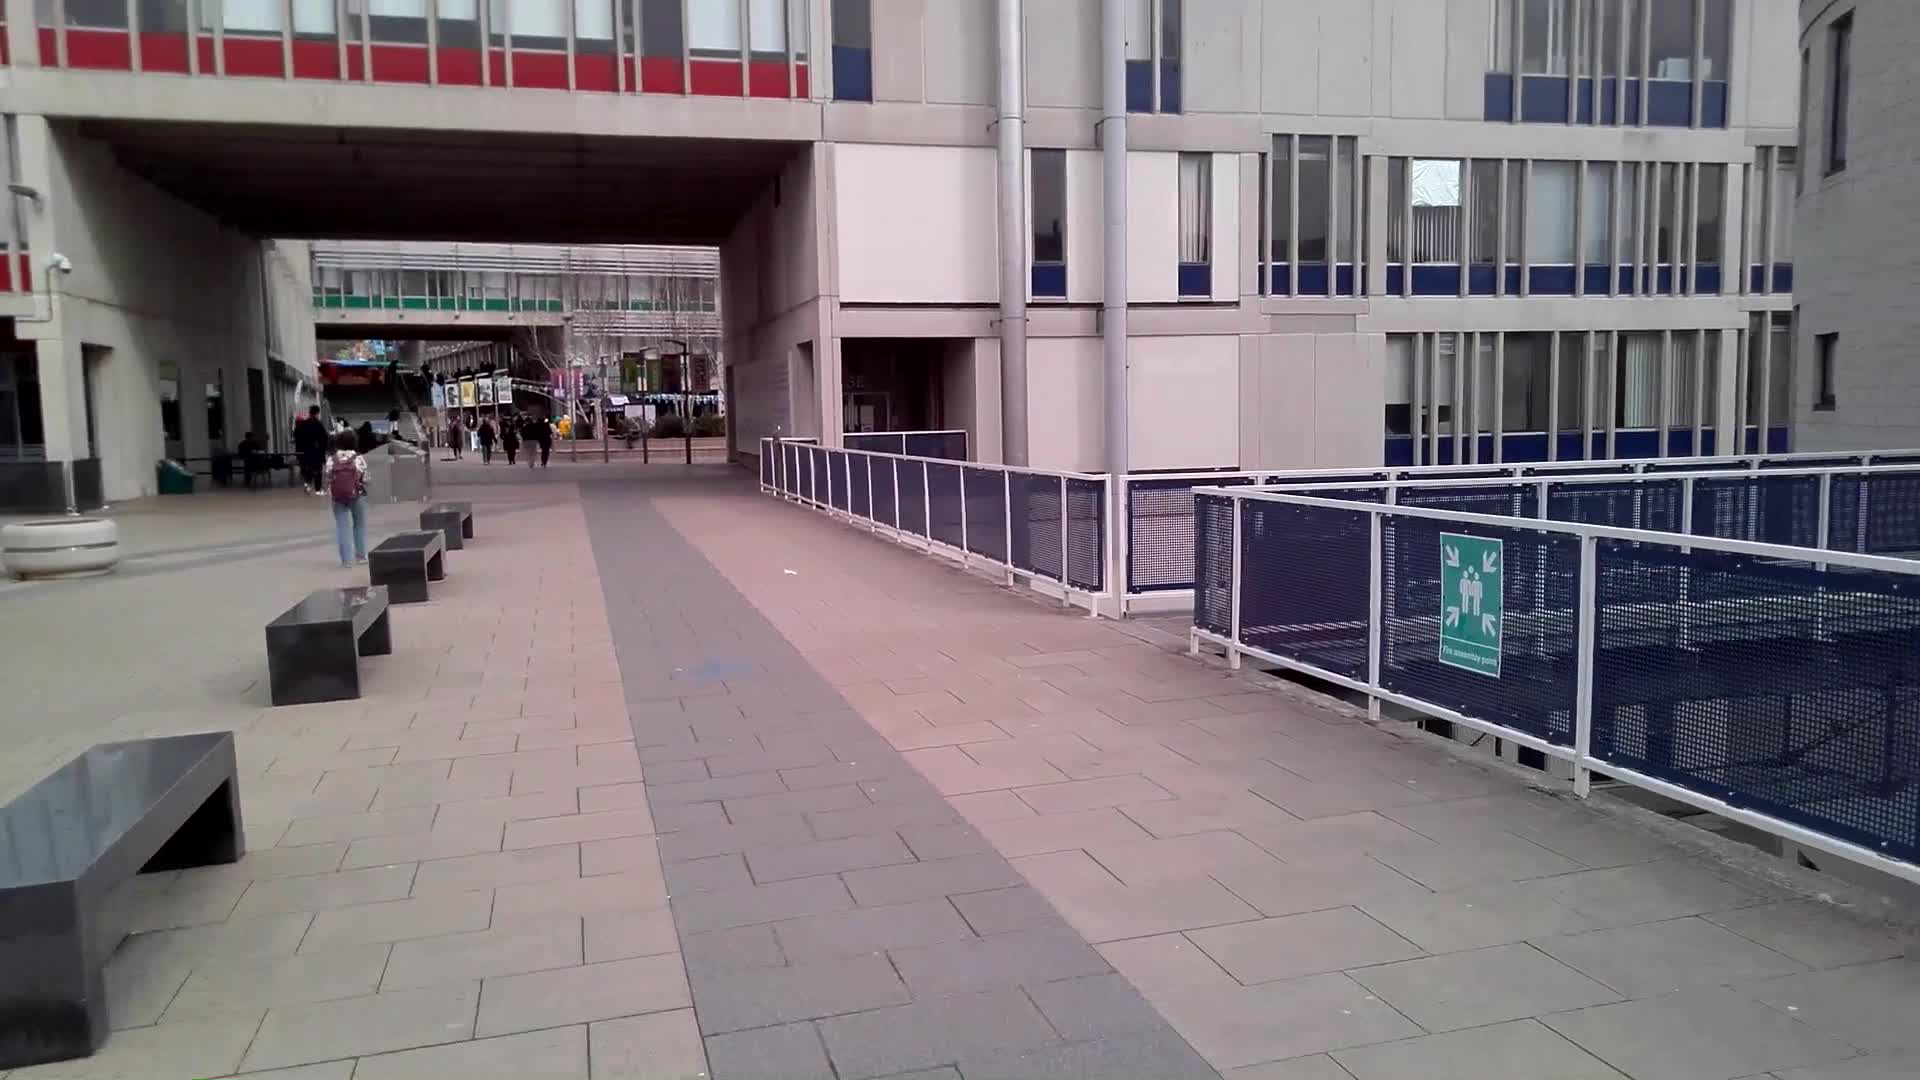Backpack: (326, 457, 369, 506)
Bench: (1, 725, 241, 1080), (274, 589, 393, 697), (368, 533, 450, 606), (417, 498, 476, 550)
Person: (330, 429, 373, 567)
